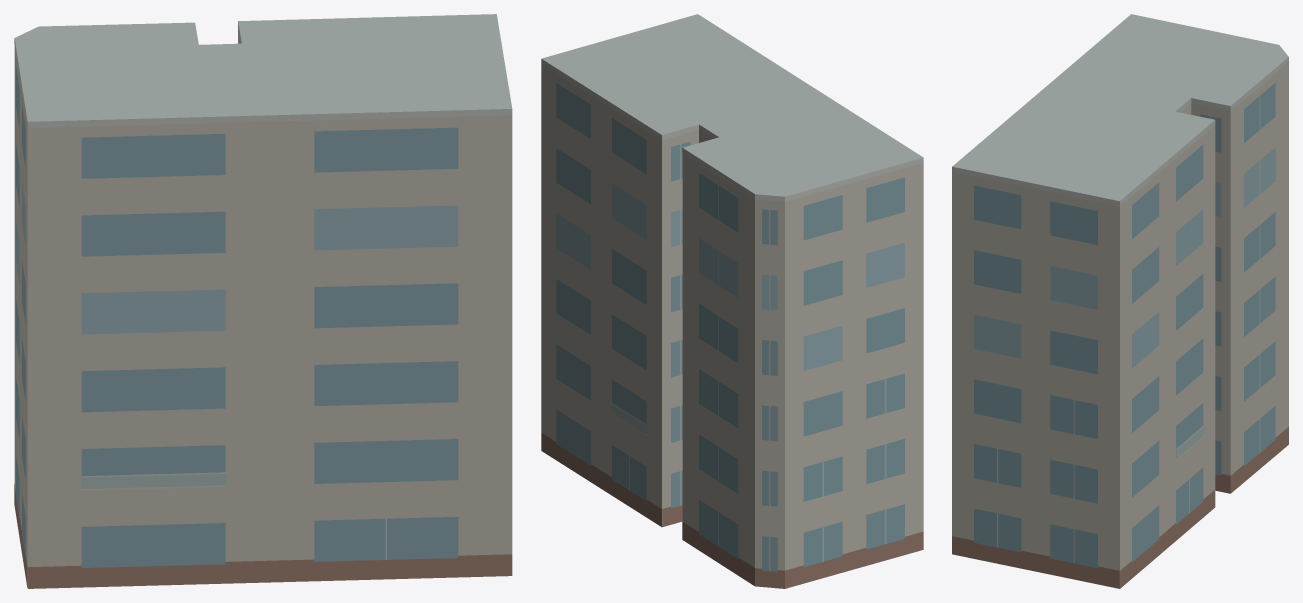
File: survey-upis-32883531.glb
3 views of the same model, side by side, from view 1: azimuth 30°, elevation 25°; view 2: azimuth 150°, elevation 25°; view 3: azimuth 270°, elevation 25° (orthographic). The views are drawn at different scales.
Visible parts, largest first — view 1: survey-upis-32883531.tmp; view 2: survey-upis-32883531.tmp; view 3: survey-upis-32883531.tmp.
Part boxes in pixels (bbox=[...]): survey-upis-32883531.tmp: bbox=[14, 14, 512, 588]; survey-upis-32883531.tmp: bbox=[541, 14, 923, 588]; survey-upis-32883531.tmp: bbox=[952, 14, 1288, 588].
Bounding box in the file's own units: 18.97 × 18.3 × 14.42.
